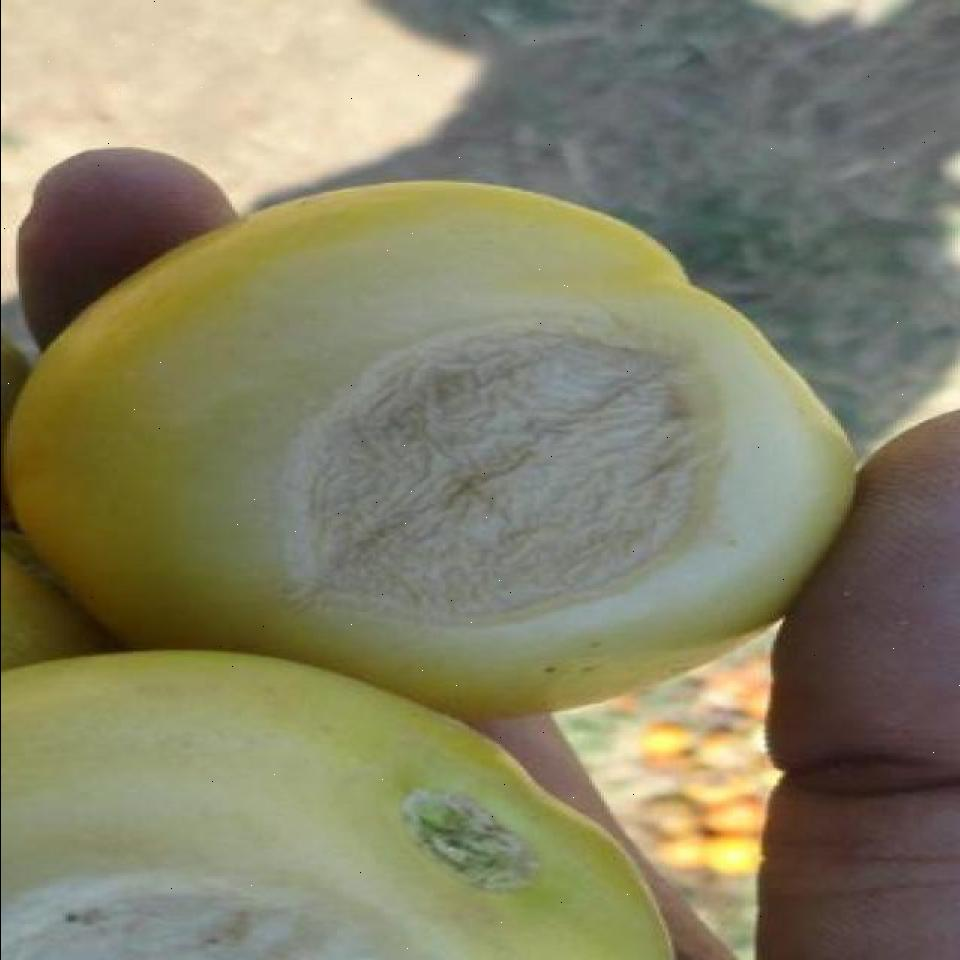Sunscald: (274, 280, 756, 644), (3, 868, 477, 960)
